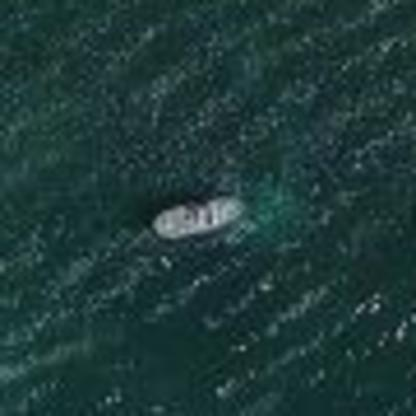ship: (141, 190, 252, 242)
